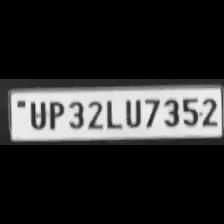2: (199, 94, 219, 128), (84, 98, 104, 130)
3: (65, 98, 85, 130), (160, 94, 178, 128)
5: (178, 95, 200, 127)
7: (140, 96, 160, 128)
L: (103, 97, 121, 129)
P: (46, 98, 64, 130)
U: (26, 98, 46, 130), (121, 96, 141, 128)
